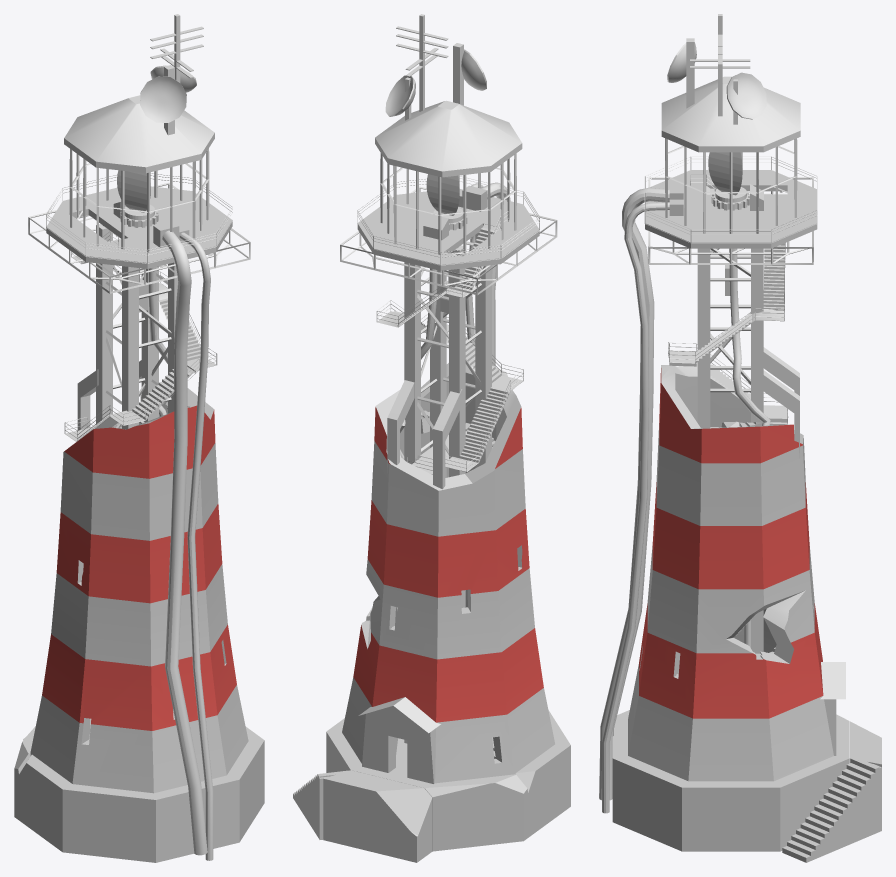
The model's file is lighthouse.fbx.
The picture shows the model from 3 angles, left to right: view 1: azimuth 30°, elevation 25°; view 2: azimuth 150°, elevation 25°; view 3: azimuth 270°, elevation 25°; orthographic projection. The views are drawn at different scales.
Visible parts, largest first — view 1: Plane.017, Sphere.001; view 2: Plane.017, Sphere.001; view 3: Plane.017, Sphere.001.
Boxes of the visible parts, box(x1,y1,x2,y2) form: Plane.017: box(14, 14, 264, 862); Sphere.001: box(117, 170, 150, 212); Plane.017: box(293, 14, 570, 862); Sphere.001: box(426, 174, 459, 215); Plane.017: box(599, 14, 881, 862); Sphere.001: box(708, 152, 742, 195).
Bounding box in the file's own units: 1536 × 5243 × 1662.
